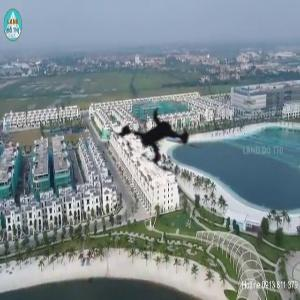drone: (87, 72, 223, 208)
